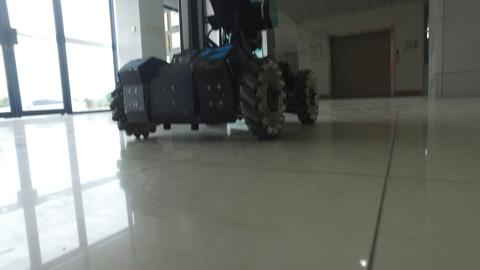chariot: (98, 1, 344, 156)
